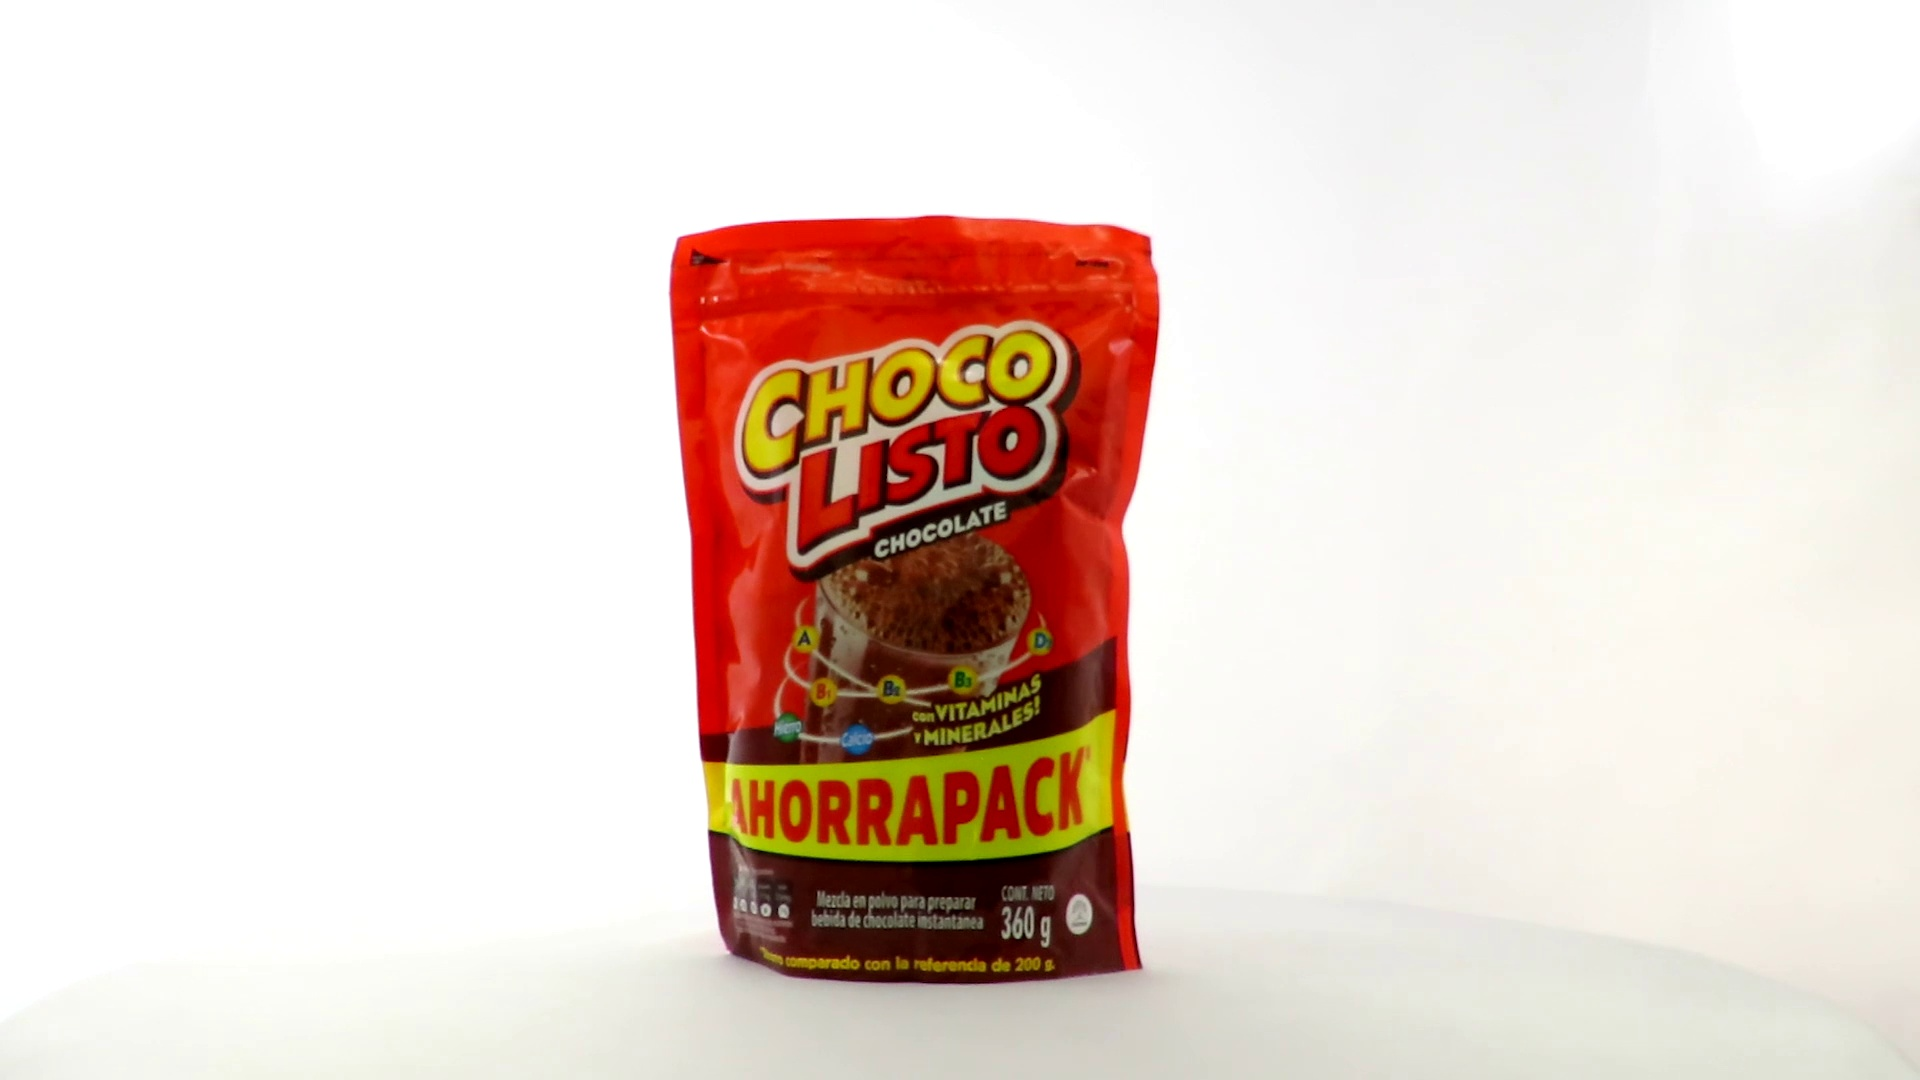COL0170103DYP36000: (665, 210, 1166, 992)
